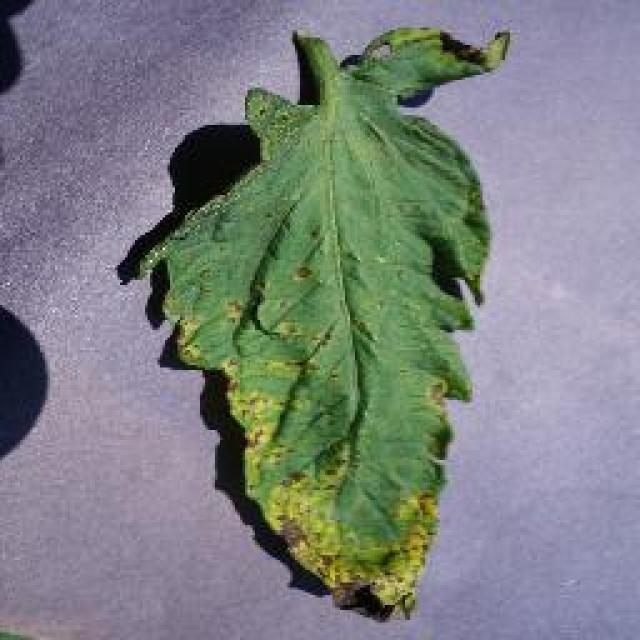Tomato___Septoria_leaf_spot: (140, 28, 508, 615)
